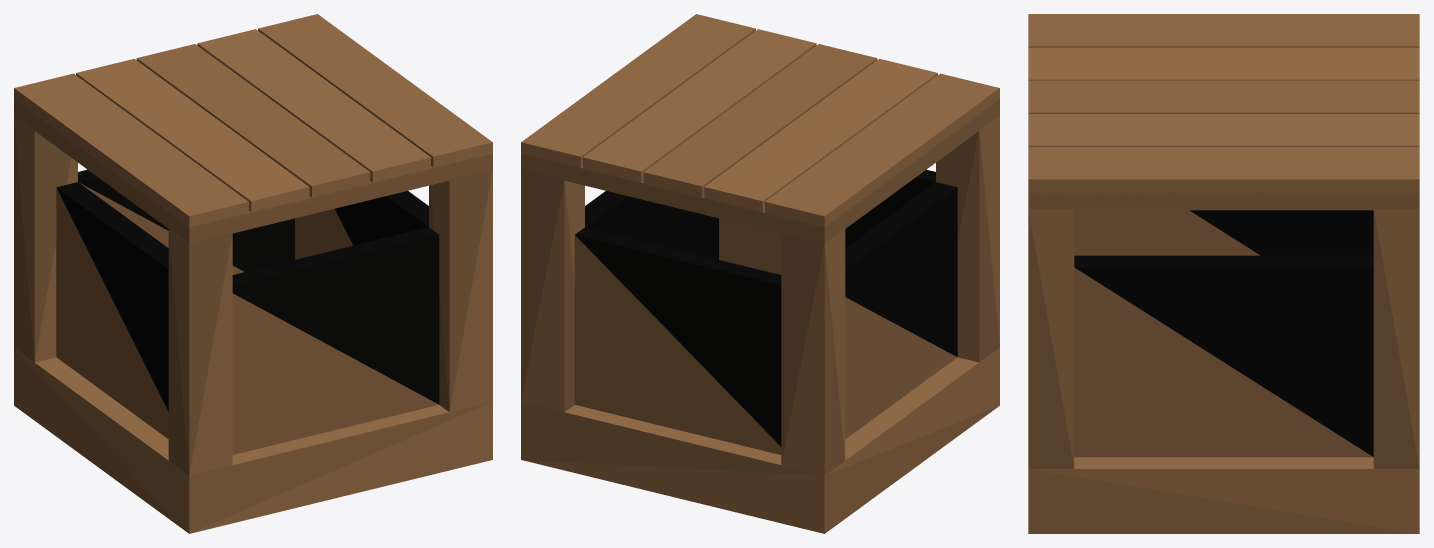
File: crate.glb
3 views of the same model, side by side, from view 1: azimuth 30°, elevation 25°; view 2: azimuth 150°, elevation 25°; view 3: azimuth 270°, elevation 25° (orthographic). The views are drawn at different scales.
Visible parts, largest first — view 1: structure; view 2: structure; view 3: structure.
Part boxes in pixels (x1,y1,x2,y2): structure: (14, 14, 492, 533); structure: (521, 14, 999, 533); structure: (1028, 14, 1419, 533).
Size of the model in its own units: 0.8 by 0.8 by 0.8.
